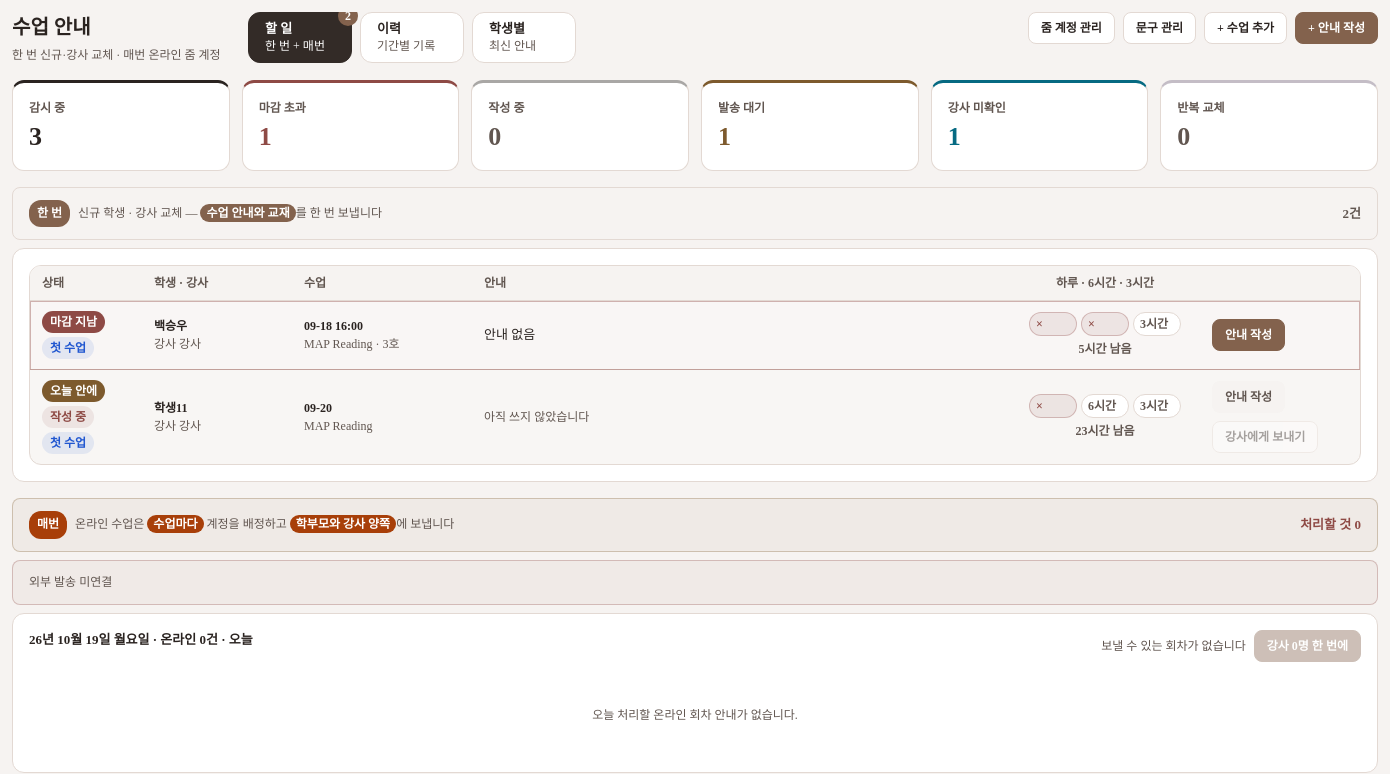
Test: 「안내 없음」 줄이 할 일에 서고 줄에서 초안을 만들어 바로 작성한다 · 긴급도 칩 · 사다리 (§43 · N-89)
Expected: the text "수업 안내와 교재" shows "2건", [1342,206,1361,221]
Expected: the text "백승우" is shown, [154,319,187,333]
Click the button with aria-label "백승우 안내 작성": (1249, 335) [1212,319,1285,351]
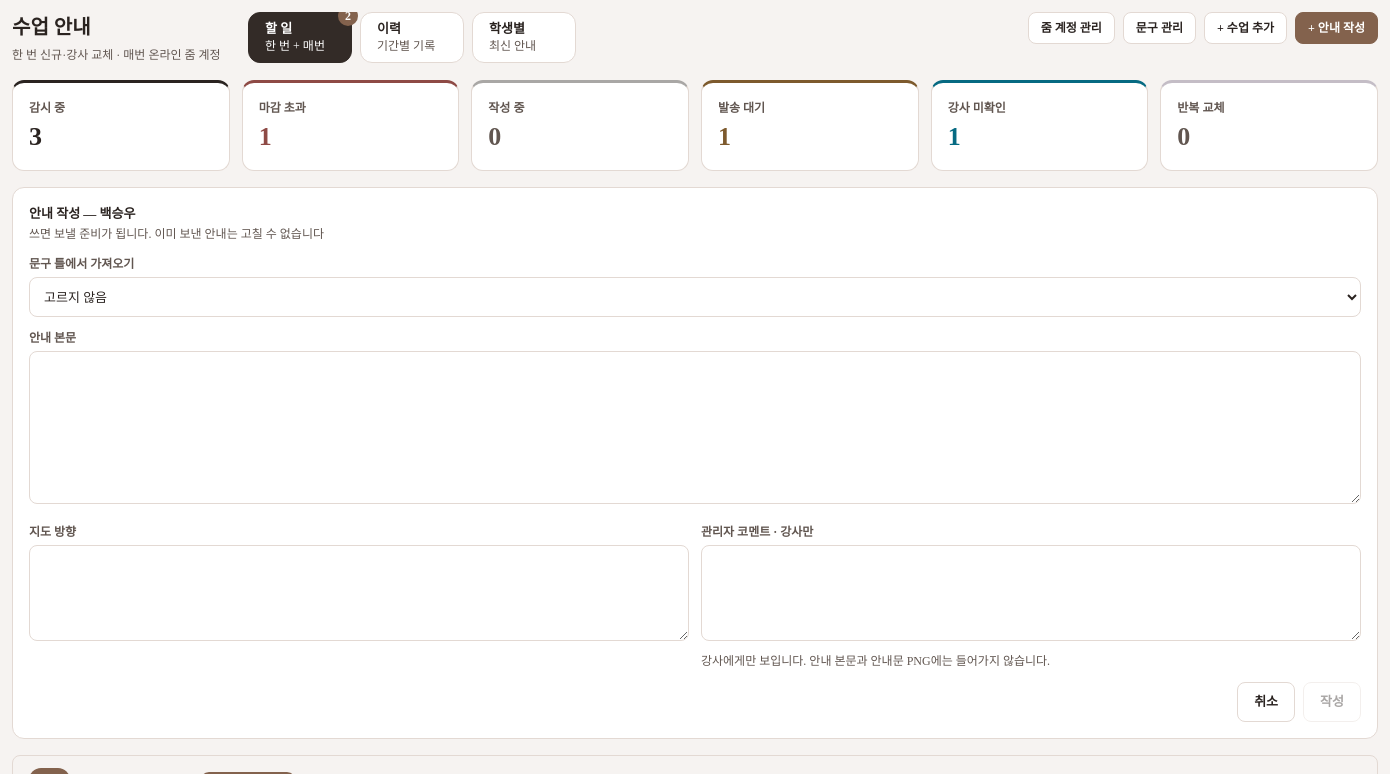
Now the heading "안내 작성 — 백승우" is shown, box [29,206,136,220]
